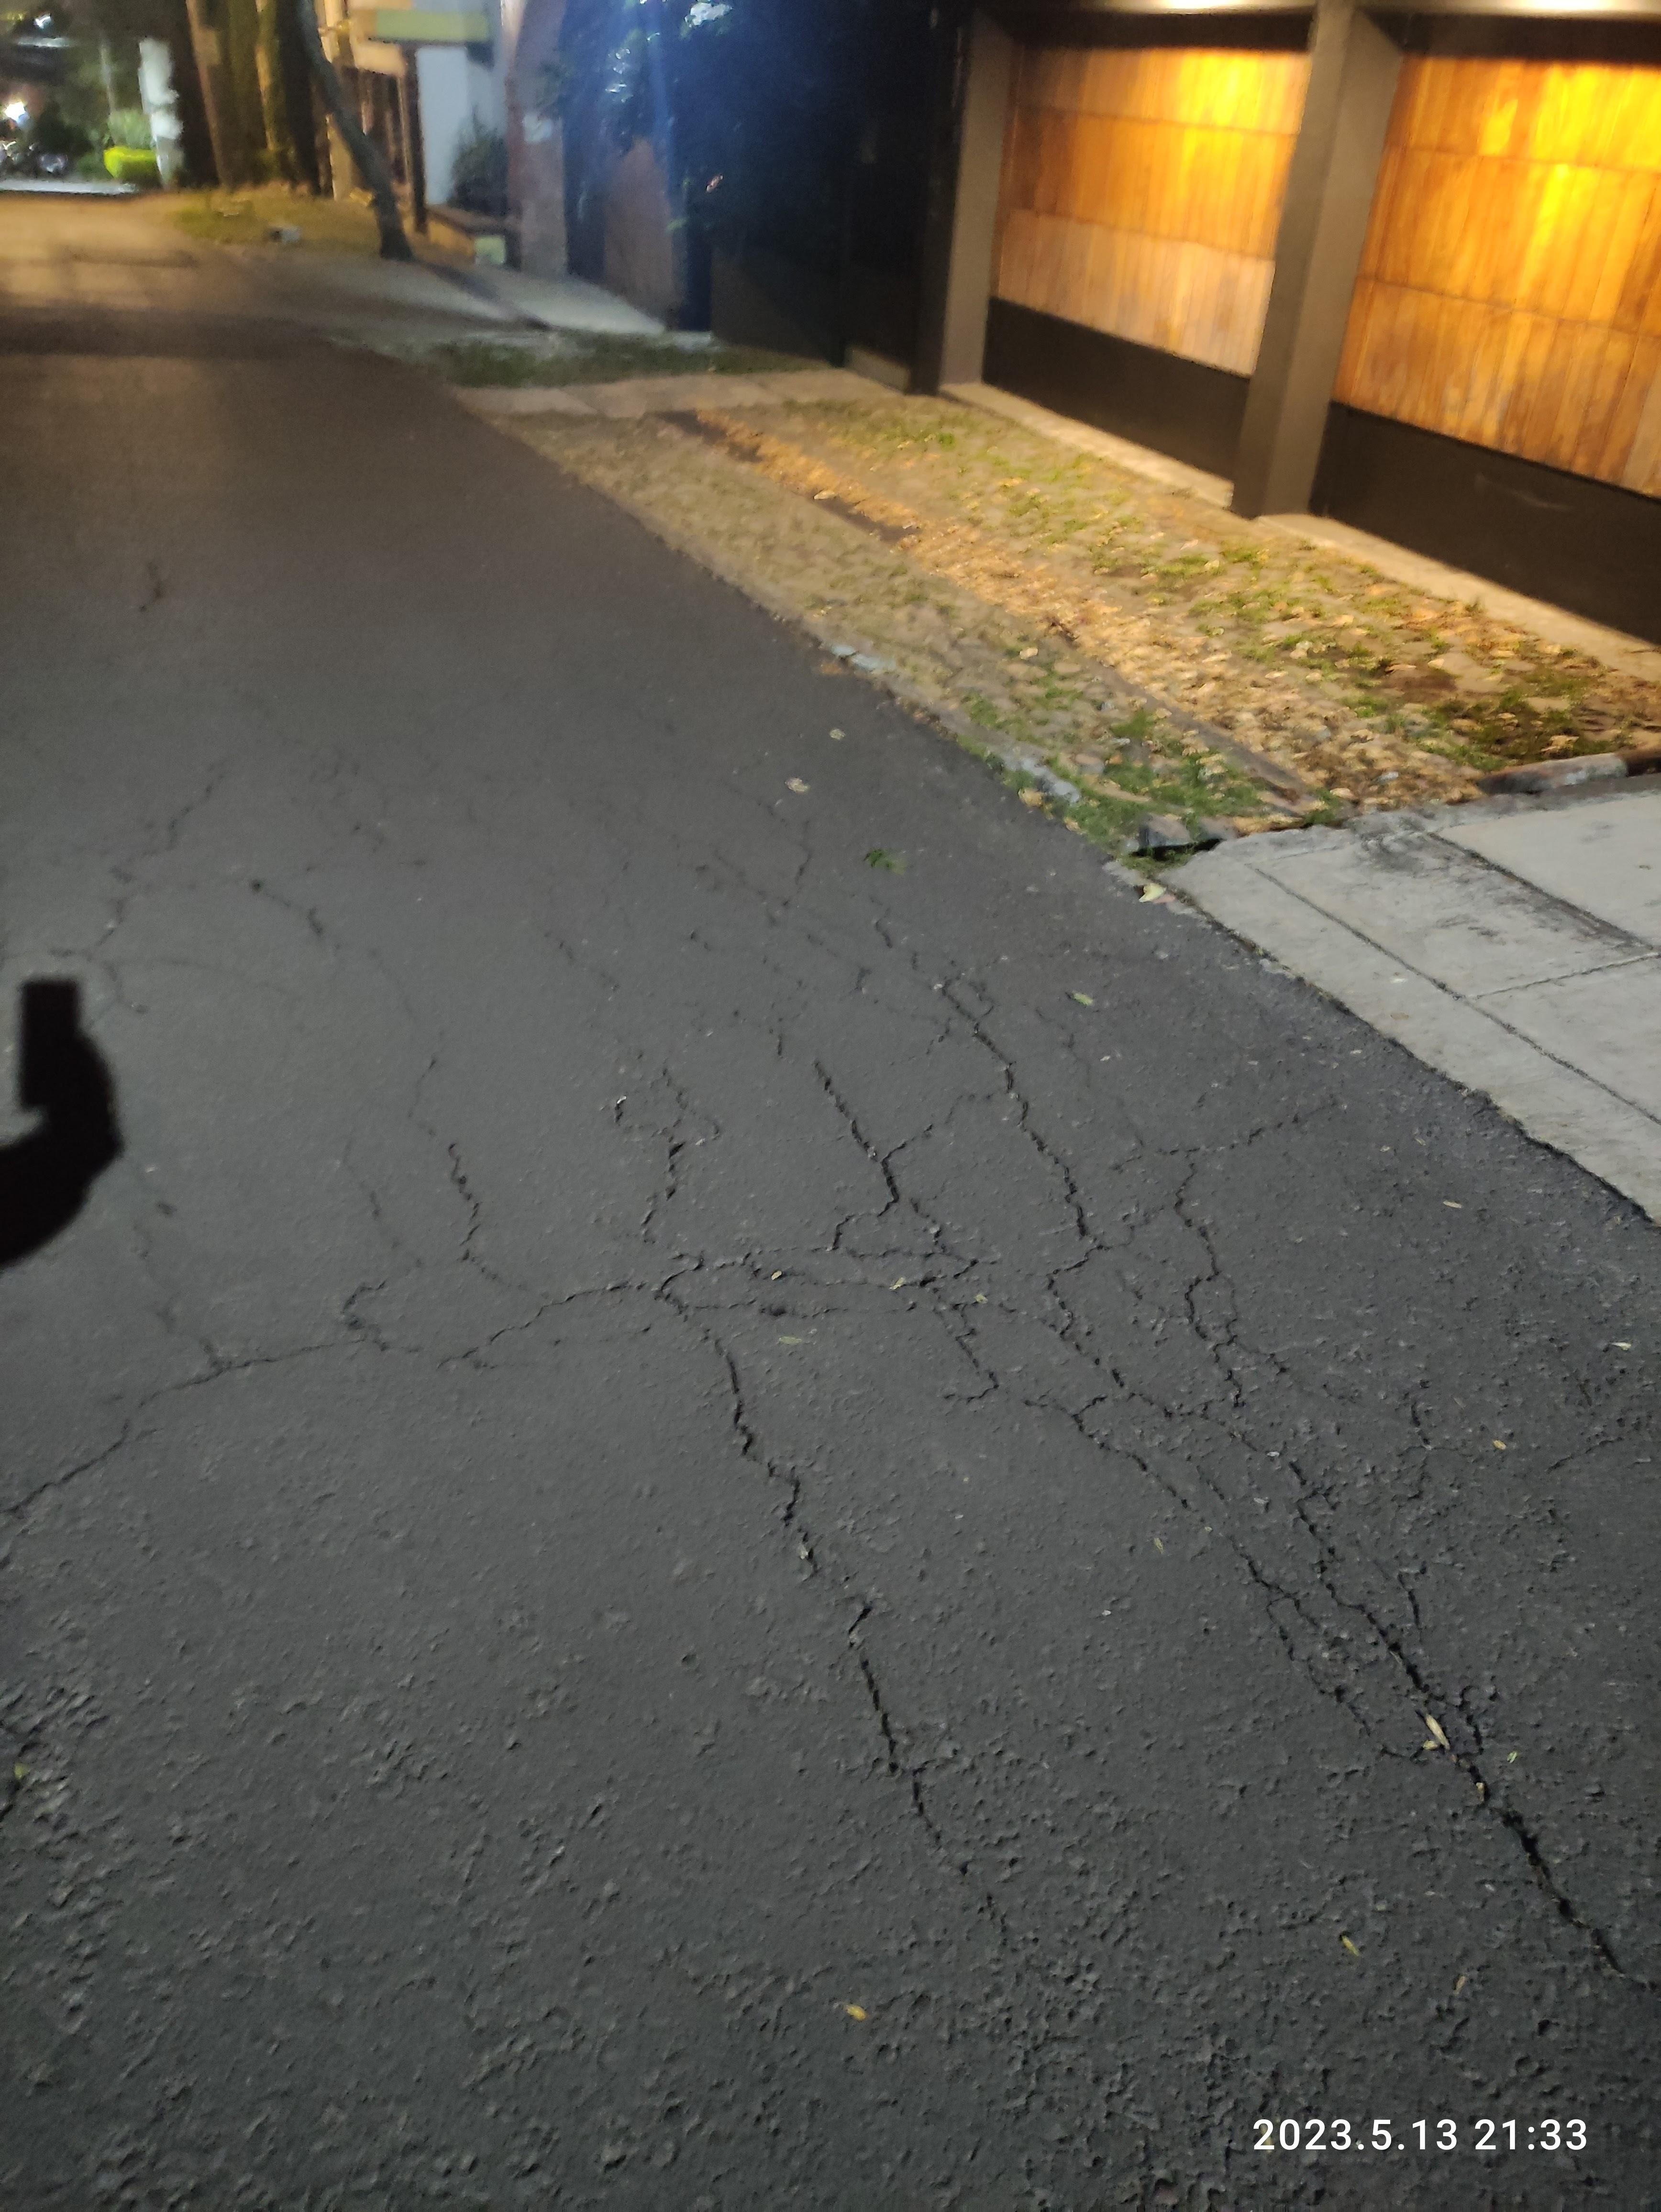alligator-crack: (461, 795, 1661, 2079)
